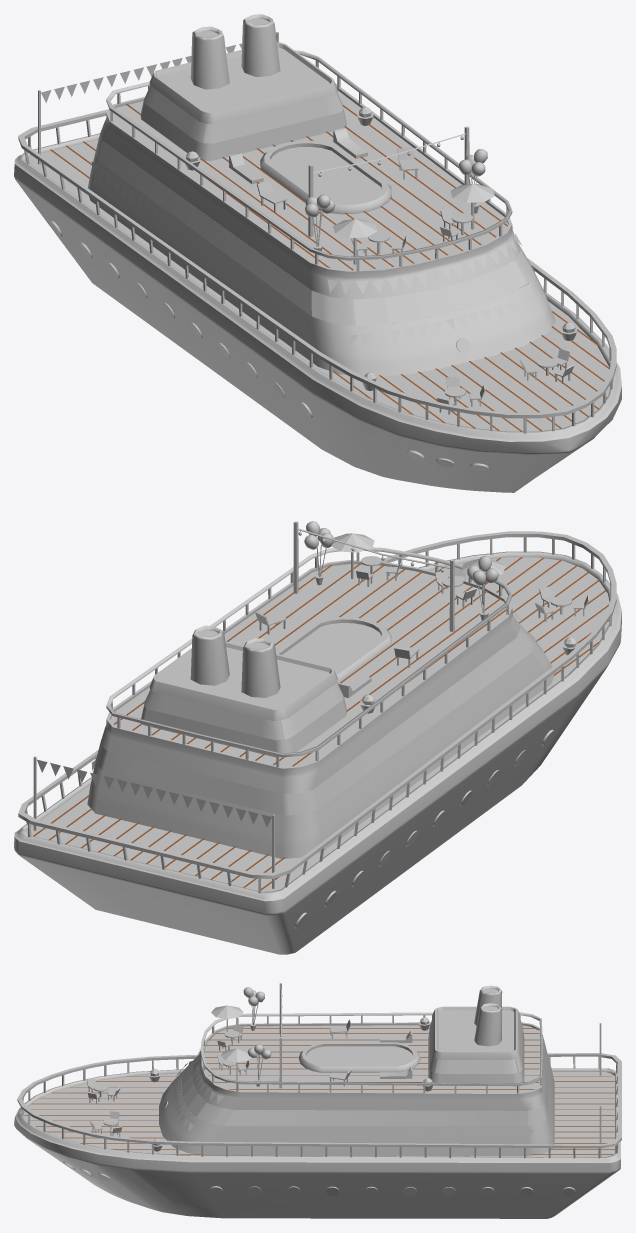
File: Cruise.fbx
3 views of the same model, one above another, from view 1: azimuth 30°, elevation 25°; view 2: azimuth 150°, elevation 25°; view 3: azimuth 270°, elevation 25° (orthographic). The views are drawn at different scales.
Parts seen in each view (by area): view 1: Cruise; view 2: Cruise; view 3: Cruise.
Boxes of the visible parts, x1,y1,x2,y2 form: Cruise: (14, 14, 621, 492); Cruise: (14, 521, 621, 954); Cruise: (14, 983, 621, 1218).
Bounding box in the file's own units: 5.51 × 5.09 × 15.09.
